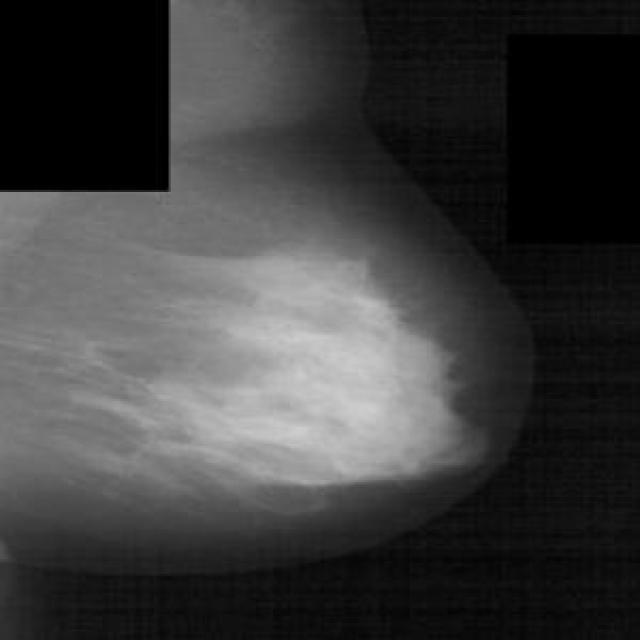tumor: (202, 248, 482, 498)
